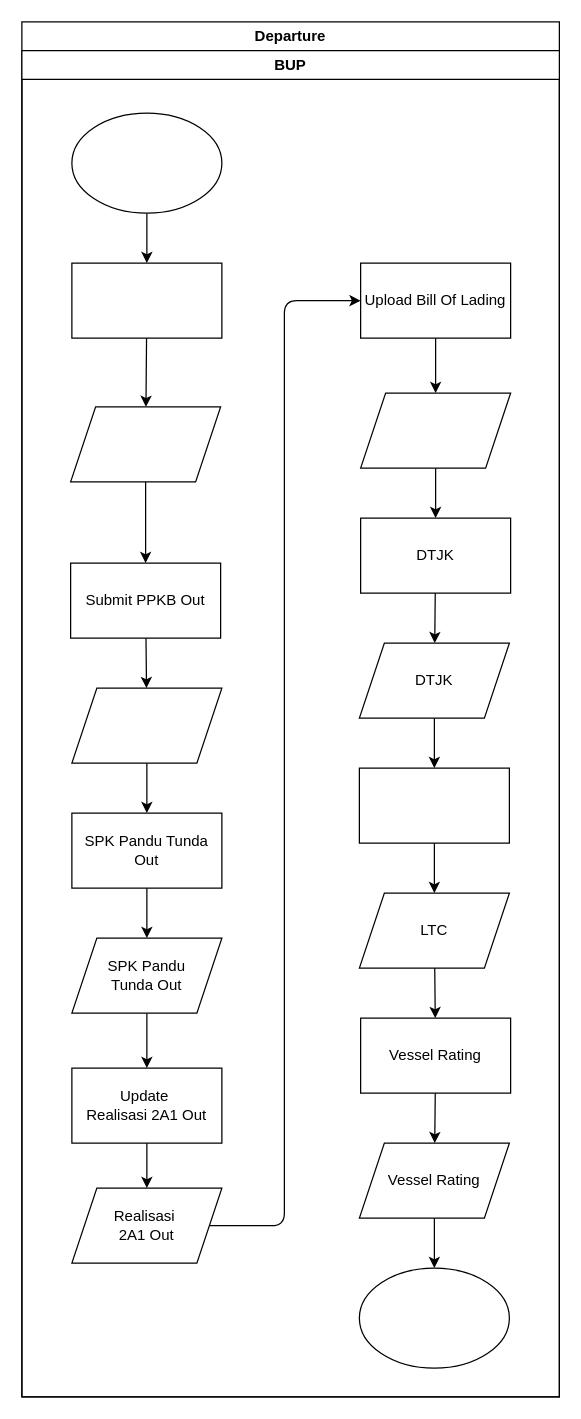
This 581x1419 diagram has some shape labels left out. The shapes that lost their labels are listed below. From the top down, each one's centre as x and y in pixels, then its label:
(146,162): Start
(146,300): Update Clearence Out
(145,444): Clearence Out
(435,430): Bill Of Lading
(146,725): PPKB Out
(433,805): Update LTC
(433,1317): End
